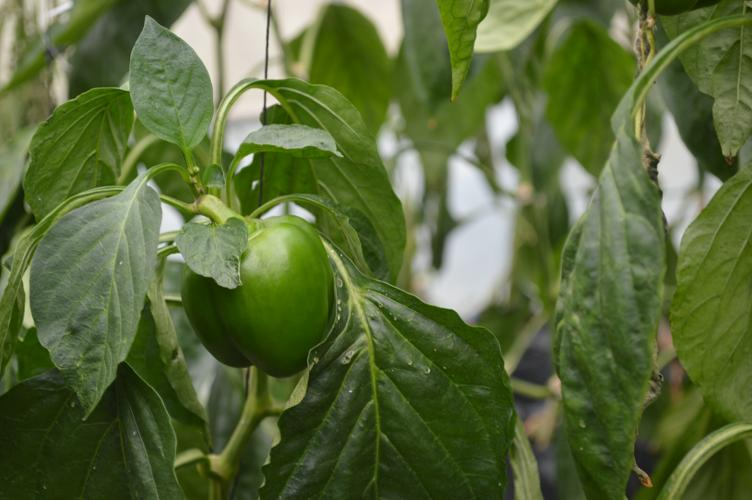BellPepper: (175, 209, 378, 386)
